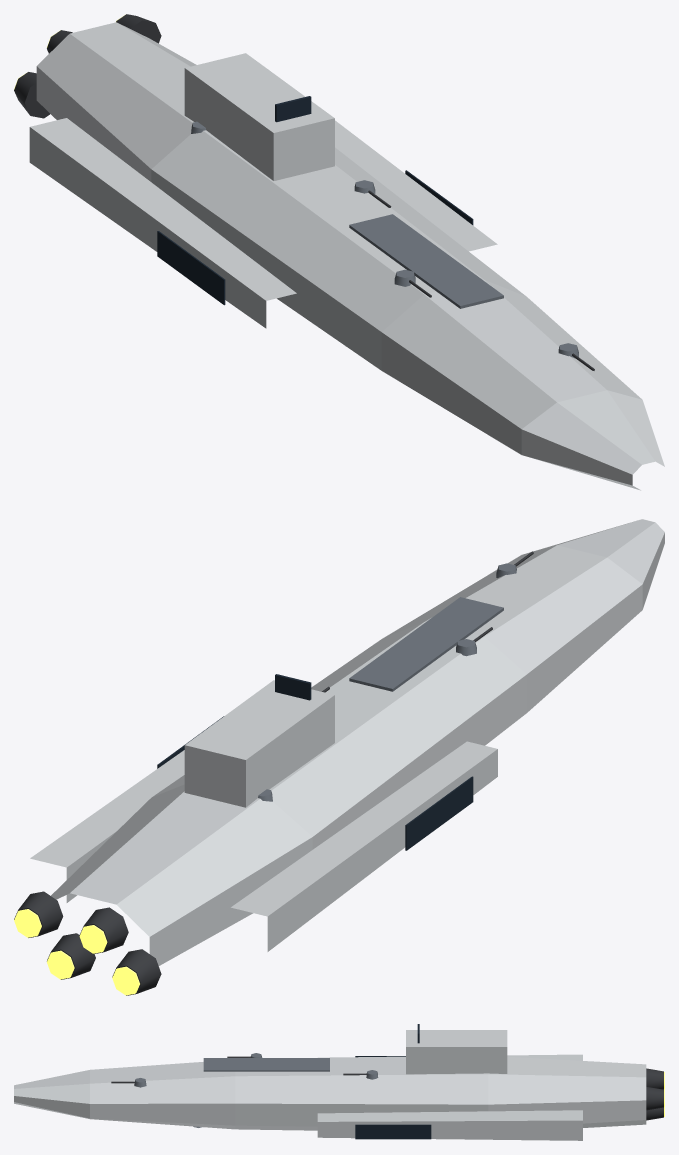
Rendered from space_ship_cruiser_mk2.glb.
The picture shows the model from 3 angles, top to bottom: view 1: azimuth 30°, elevation 25°; view 2: azimuth 150°, elevation 25°; view 3: azimuth 270°, elevation 25°; orthographic projection. The views are drawn at different scales.
Parts seen in each view (by area): view 1: body, hangar_r, engine_0; view 2: body, hangar_r, engine_0, engine_1, engine_3, engine_2; view 3: body, hangar_l, engine_3, engine_1, engine_2.
Boxes of the visible parts, x1,y1,x2,y2 form: body: [29, 22, 664, 490]; hangar_r: [157, 231, 225, 305]; engine_0: [14, 72, 49, 118]; body: [30, 519, 664, 965]; hangar_r: [405, 776, 473, 850]; engine_0: [112, 949, 161, 995]; engine_1: [79, 907, 128, 953]; engine_3: [14, 891, 63, 937]; engine_2: [47, 933, 95, 979]; body: [14, 1024, 646, 1140]; hangar_l: [355, 1124, 431, 1139]; engine_3: [646, 1086, 664, 1110]; engine_1: [646, 1068, 664, 1089]; engine_2: [646, 1107, 664, 1120].
Size of what is drawn, in the model's own units: 18.56 by 12.04 by 73.8.
